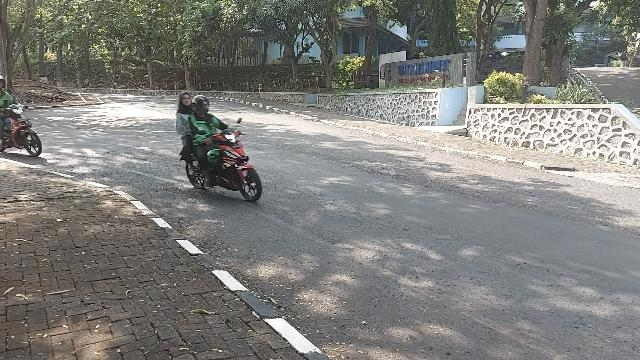helm: (194, 96, 211, 114)
motor: (181, 119, 263, 203)
non-helm: (180, 93, 192, 107)
